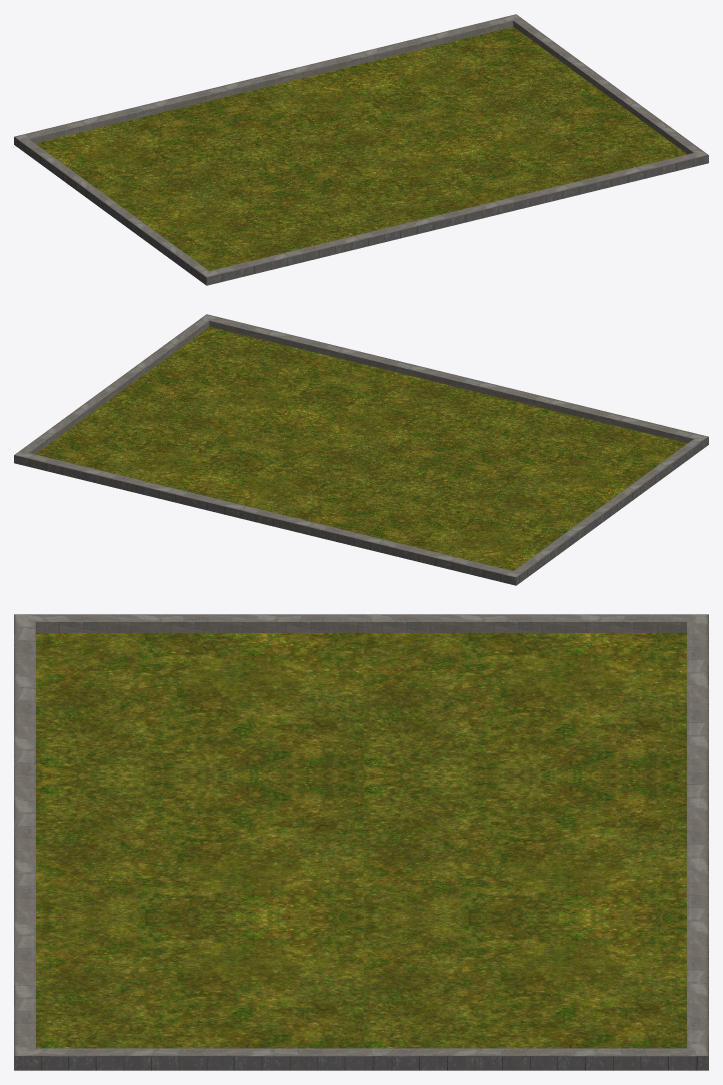
The model's file is gereen_beltsambase_big.FBX.
3 views of the same model, one above another, from view 1: azimuth 30°, elevation 25°; view 2: azimuth 150°, elevation 25°; view 3: azimuth 270°, elevation 25° (orthographic). The views are drawn at different scales.
Visible parts, largest first — view 1: gereen_beltsambase; view 2: gereen_beltsambase; view 3: gereen_beltsambase.
Part boxes in pixels (x1=…): gereen_beltsambase: x1=14, y1=14, x2=708, y2=285; gereen_beltsambase: x1=14, y1=314, x2=708, y2=585; gereen_beltsambase: x1=14, y1=614, x2=708, y2=1070.
Size of the model in its own units: 19664 by 300 by 13065.
